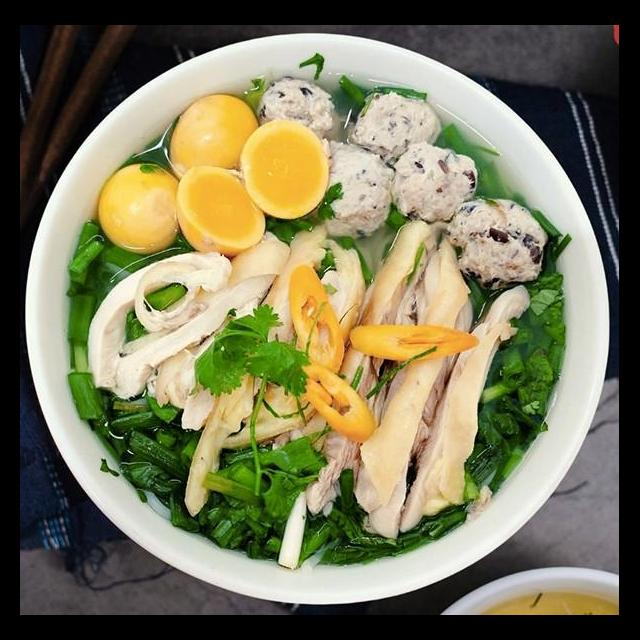thit ga: (178, 219, 336, 520), (302, 215, 454, 522), (347, 227, 482, 544), (394, 280, 534, 536), (218, 232, 370, 453), (80, 247, 284, 403), (148, 225, 296, 435)
trung: (235, 114, 332, 219), (172, 161, 270, 258), (165, 90, 262, 184), (94, 158, 182, 258)
vien moc: (442, 190, 552, 294), (302, 135, 398, 242), (380, 136, 480, 227), (344, 89, 446, 167), (252, 71, 344, 151)
